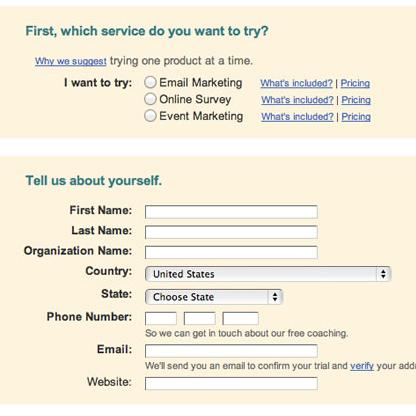field: (144, 266, 392, 282), (143, 244, 319, 260), (142, 204, 320, 219), (144, 343, 319, 358), (142, 225, 319, 239), (142, 376, 319, 390), (145, 289, 284, 305), (222, 311, 261, 325), (143, 311, 178, 325), (184, 312, 215, 325)
field_with_label: (85, 264, 395, 284), (25, 243, 321, 263), (67, 202, 322, 220), (71, 223, 322, 241), (87, 374, 321, 392), (98, 341, 321, 359), (99, 287, 287, 307), (47, 310, 179, 326)
radio: (144, 108, 158, 123), (144, 91, 156, 106), (144, 75, 156, 89)
radio_with_label: (141, 105, 245, 124), (141, 73, 242, 90), (141, 90, 234, 107)
